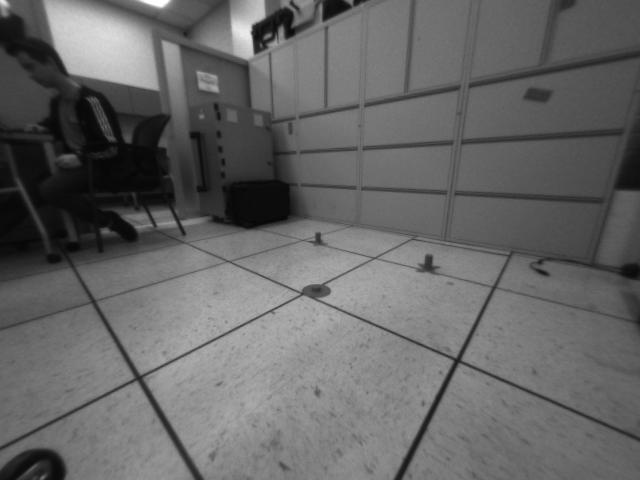X: (415, 252, 442, 275), (308, 231, 328, 247)
